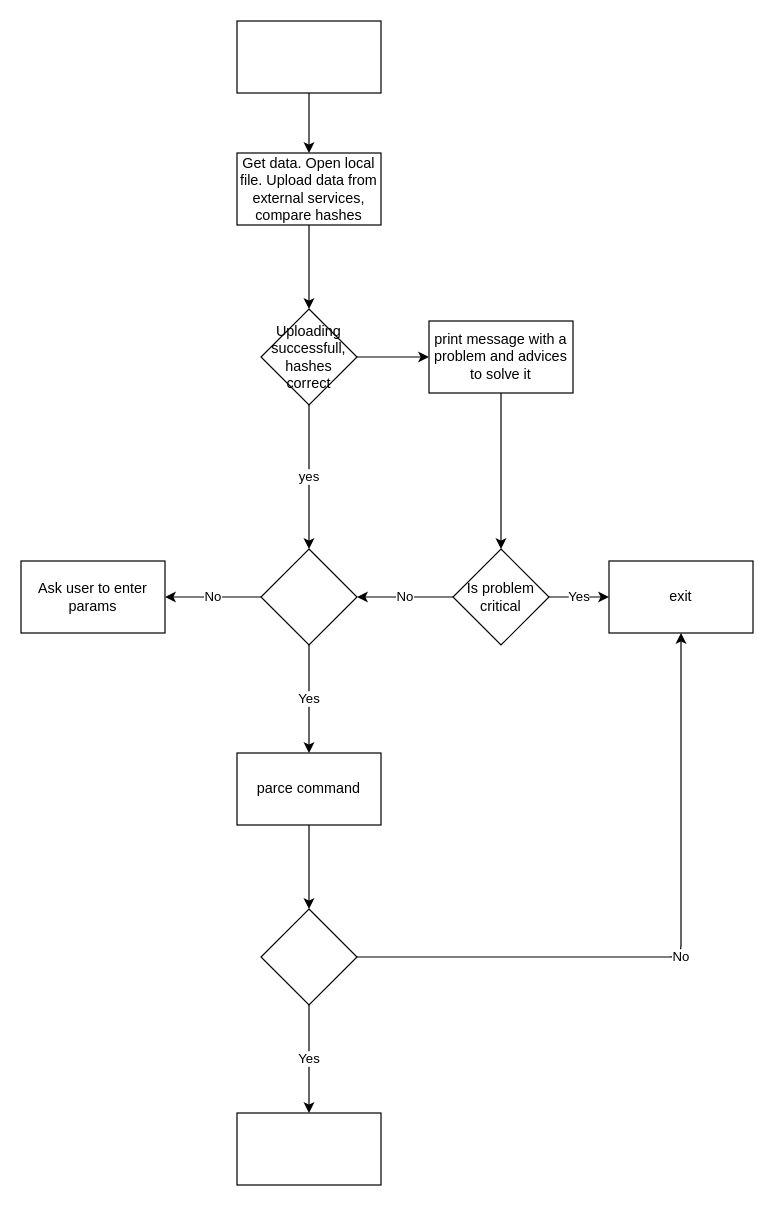
Image size: 774x1206. Some labels were removed from this diagram. Each missing label, with the box of its shape:
All params set in command: (260, 548, 357, 645)
Is all params correct: (260, 908, 357, 1005)
Start: (236, 20, 381, 93)
